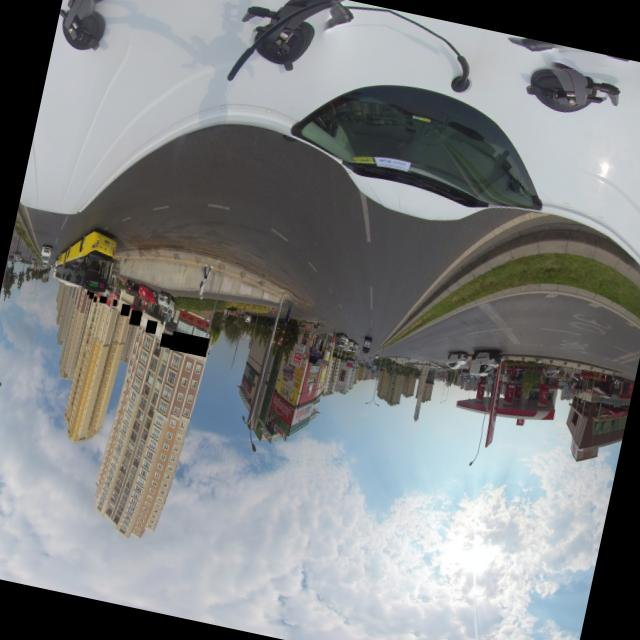SignStore: (170, 330, 206, 356), (159, 332, 175, 348), (129, 308, 141, 325), (145, 318, 156, 333), (120, 302, 129, 315), (99, 294, 106, 302), (88, 290, 93, 298), (112, 298, 116, 305), (92, 295, 96, 301), (86, 289, 89, 293)
